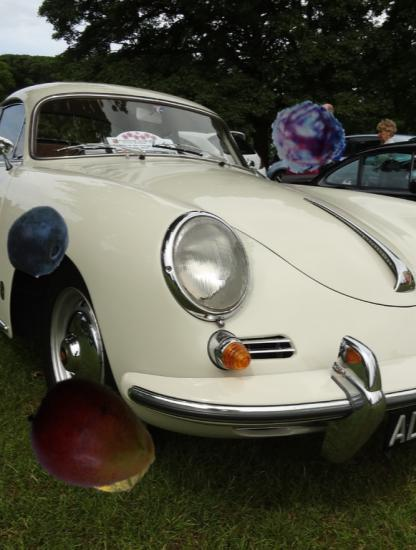Beetroot: (69, 409, 159, 499)
Blueberry: (3, 204, 74, 275)
Cantaloupe: (66, 407, 155, 496)
Dates: (271, 99, 344, 172)
Mango: (26, 372, 158, 504)
